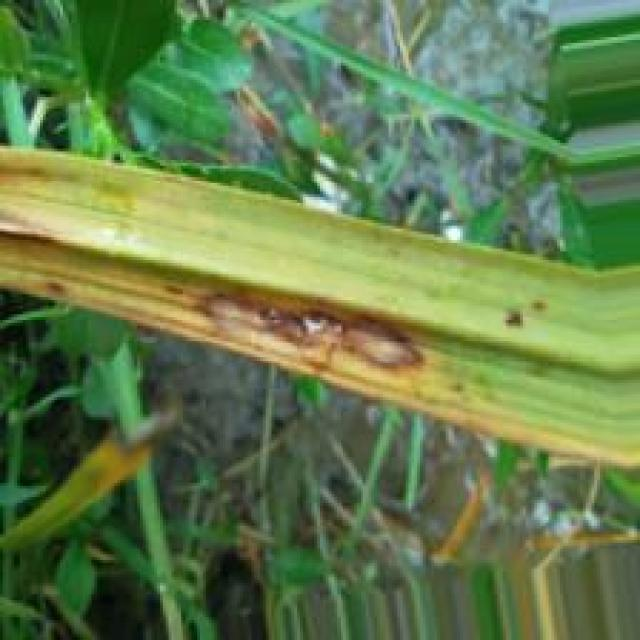Leaf_Blast: (171, 274, 443, 386), (0, 210, 67, 241)
